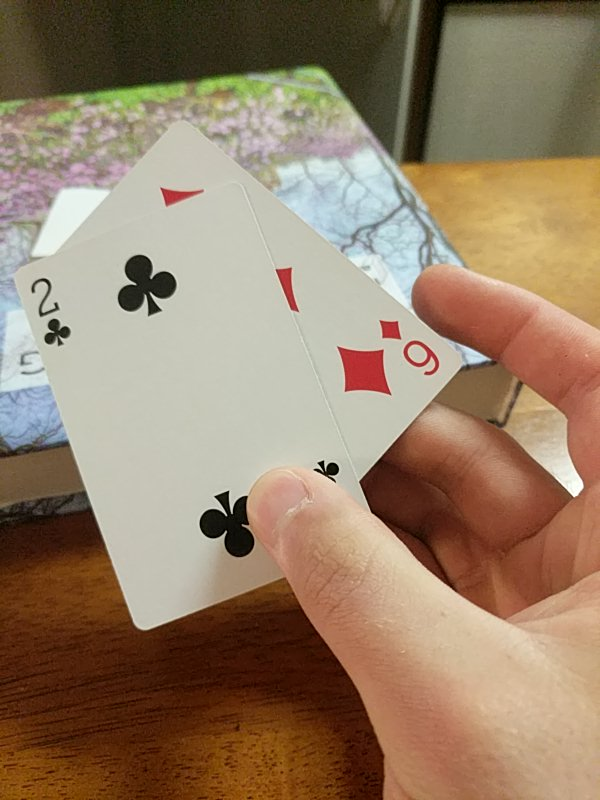Clubs: (13, 184, 372, 632)
Diamonds: (52, 118, 464, 484)
